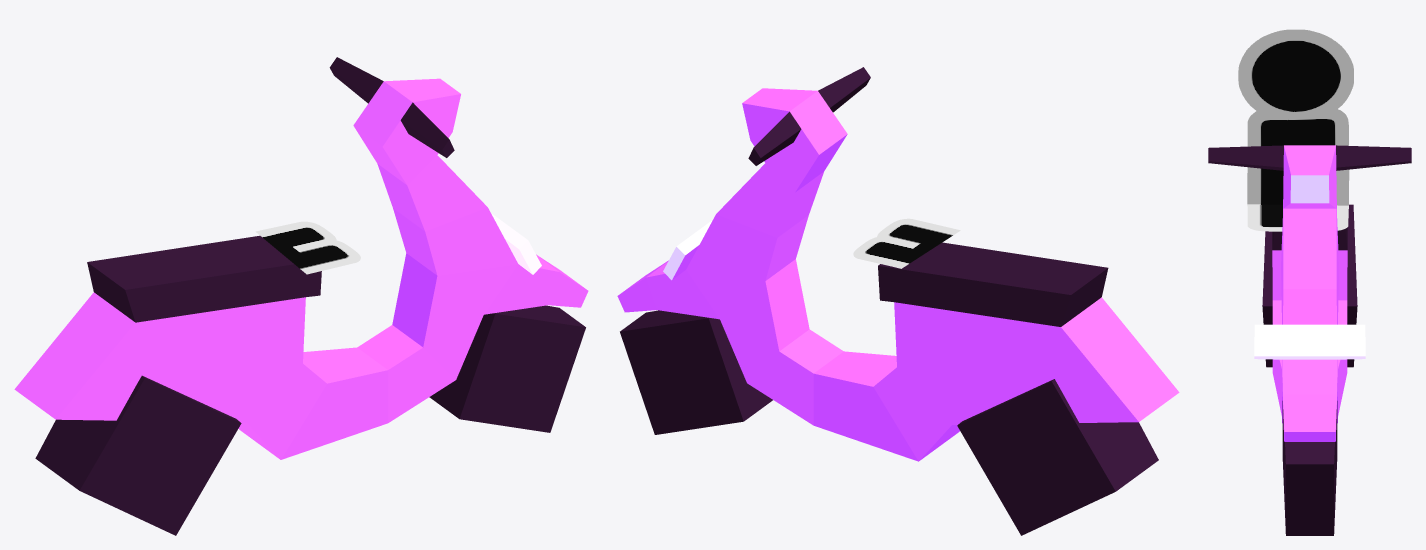
Rendered from Motor_NoSpion_Plat.fbx.
3 views of the same model, side by side, from view 1: azimuth 30°, elevation 25°; view 2: azimuth 150°, elevation 25°; view 3: azimuth 270°, elevation 25° (orthographic). The views are drawn at different scales.
Visible parts, largest first — view 1: Motor_NoSpion_Plat, Sprite People; view 2: Motor_NoSpion_Plat, Sprite People; view 3: Motor_NoSpion_Plat, Sprite People.
Part boxes in pixels (<box>): Motor_NoSpion_Plat: <box>14,57,588,535</box>; Sprite People: <box>255,221,360,274</box>; Motor_NoSpion_Plat: <box>617,67,1179,535</box>; Sprite People: <box>853,218,960,268</box>; Motor_NoSpion_Plat: <box>1208,145,1411,535</box>; Sprite People: <box>1238,29,1353,231</box>.
Size of the model in its own units: 262 by 210 by 95.02.
